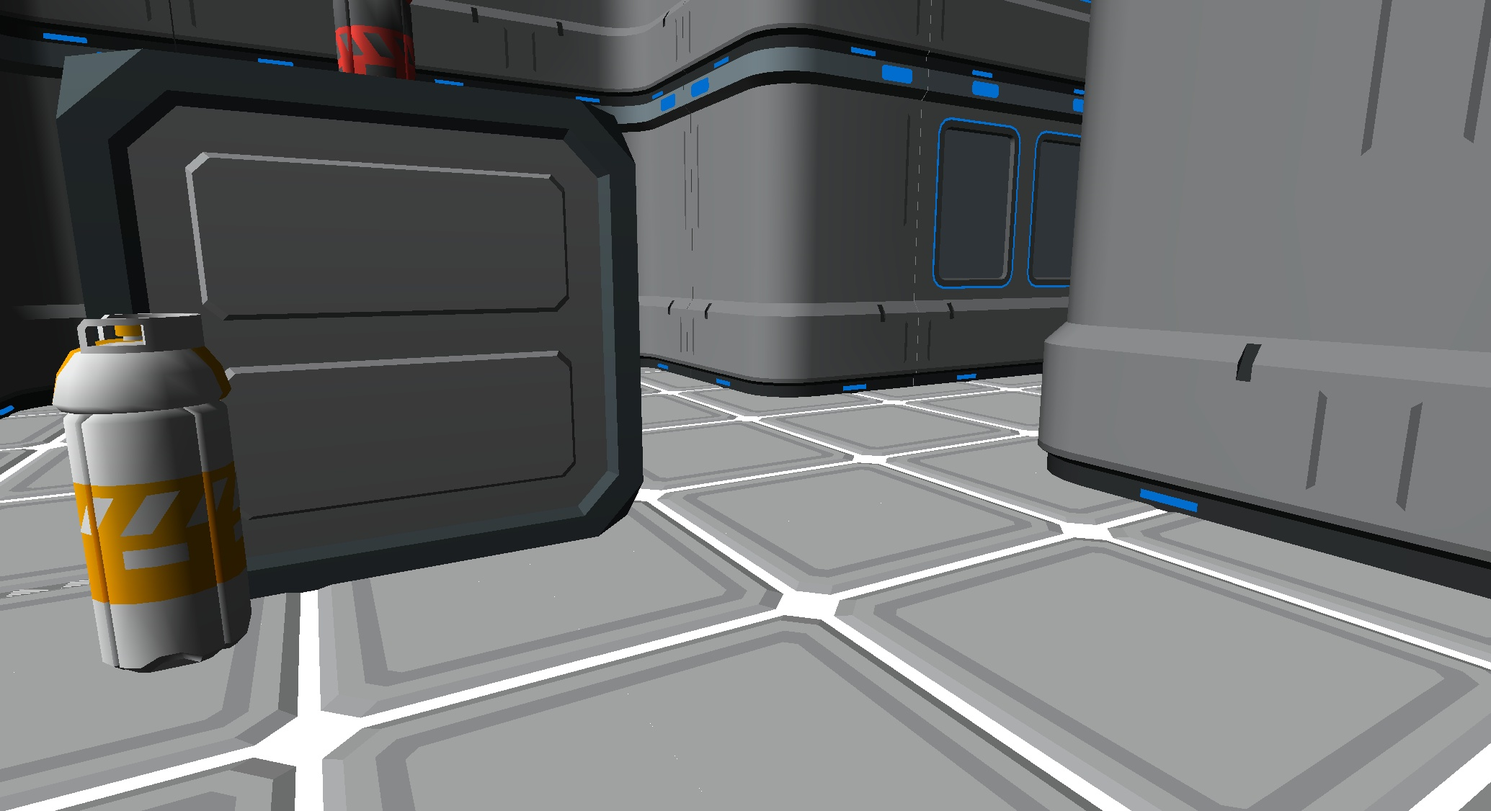red_barrel: (332, 0, 416, 79)
yellow_barrel: (54, 314, 251, 670)
